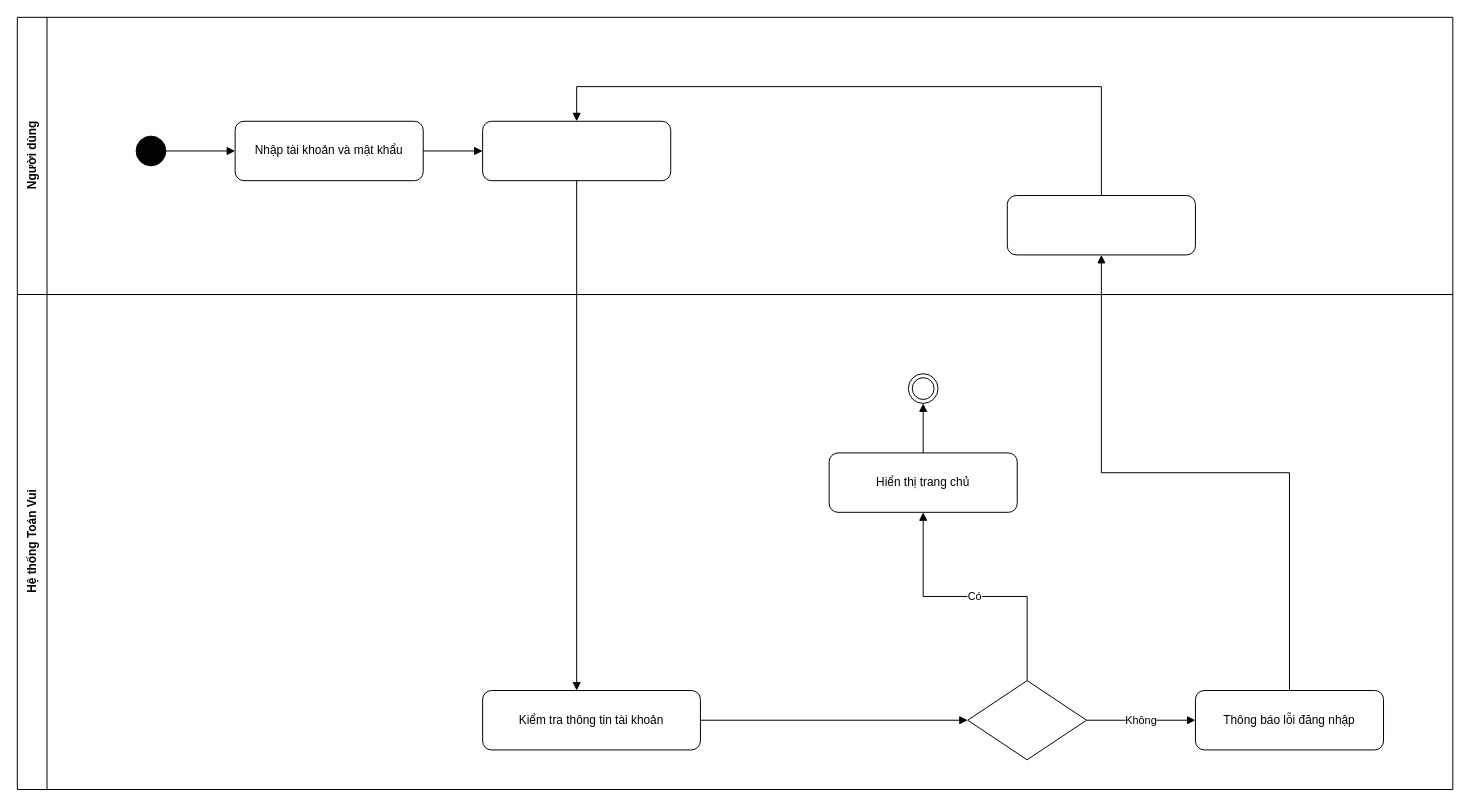
Image size: 1470x807. Some labels were removed from this diagram. Here are the shapes that lost their labels. From the top down, the centre of each, then its label:
At (576,150): "Gửi yêu cầu đăng nhập".
At (1100,225): "Nhập lại thông tin".
At (1027,720): "Thông tin hợp lệ?".
